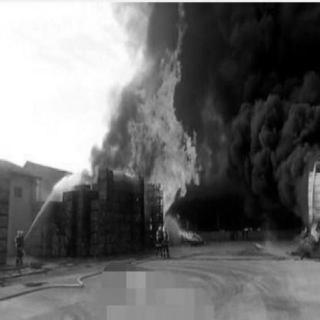Fire: (115, 2, 203, 216)
